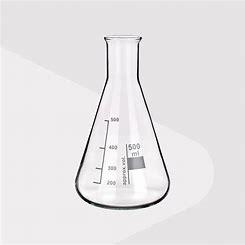Titrarion: (69, 24, 169, 210)
